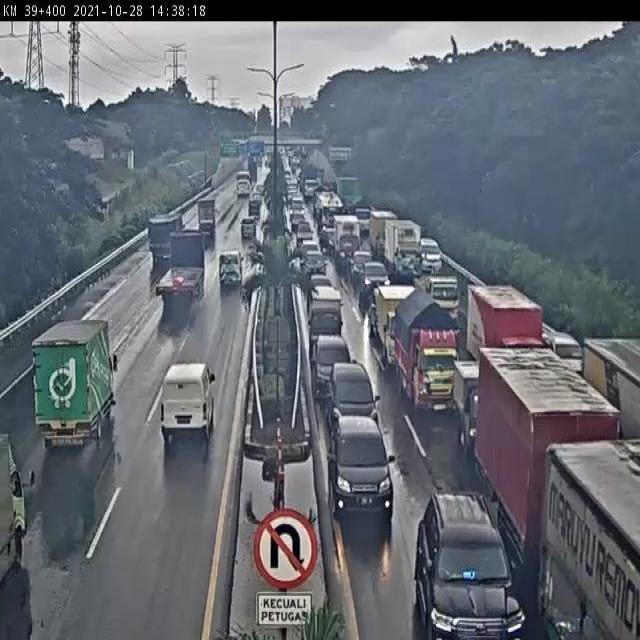big truck: (483, 344, 617, 601), (544, 441, 640, 640), (579, 323, 640, 461), (467, 280, 550, 369), (160, 233, 203, 304), (144, 208, 188, 263), (194, 200, 226, 224)
car: (412, 465, 531, 640), (330, 413, 393, 504), (159, 365, 222, 443), (326, 357, 379, 415), (315, 327, 352, 401), (214, 251, 247, 301), (233, 220, 260, 237), (197, 227, 220, 245)
small truck: (27, 313, 119, 460), (398, 292, 458, 416), (452, 360, 507, 463), (0, 414, 30, 594), (373, 280, 416, 371)
